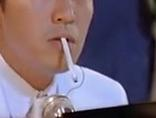smoke: (60, 33, 78, 83)
